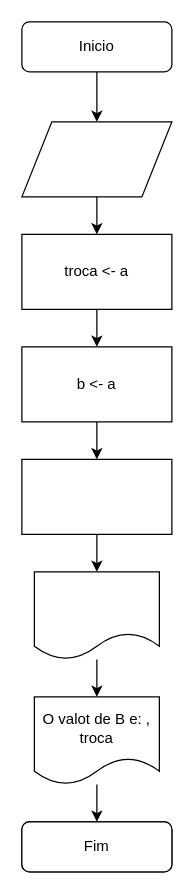
This 194x894 diagram has some shape labels left out. The shapes that lost their labels are listed below. From the top down, each one's centre as x and y in pixels, then its label:
(96,159): leia A e B
(96,496): b <- troca
(96,615): O valor de A e: , A
